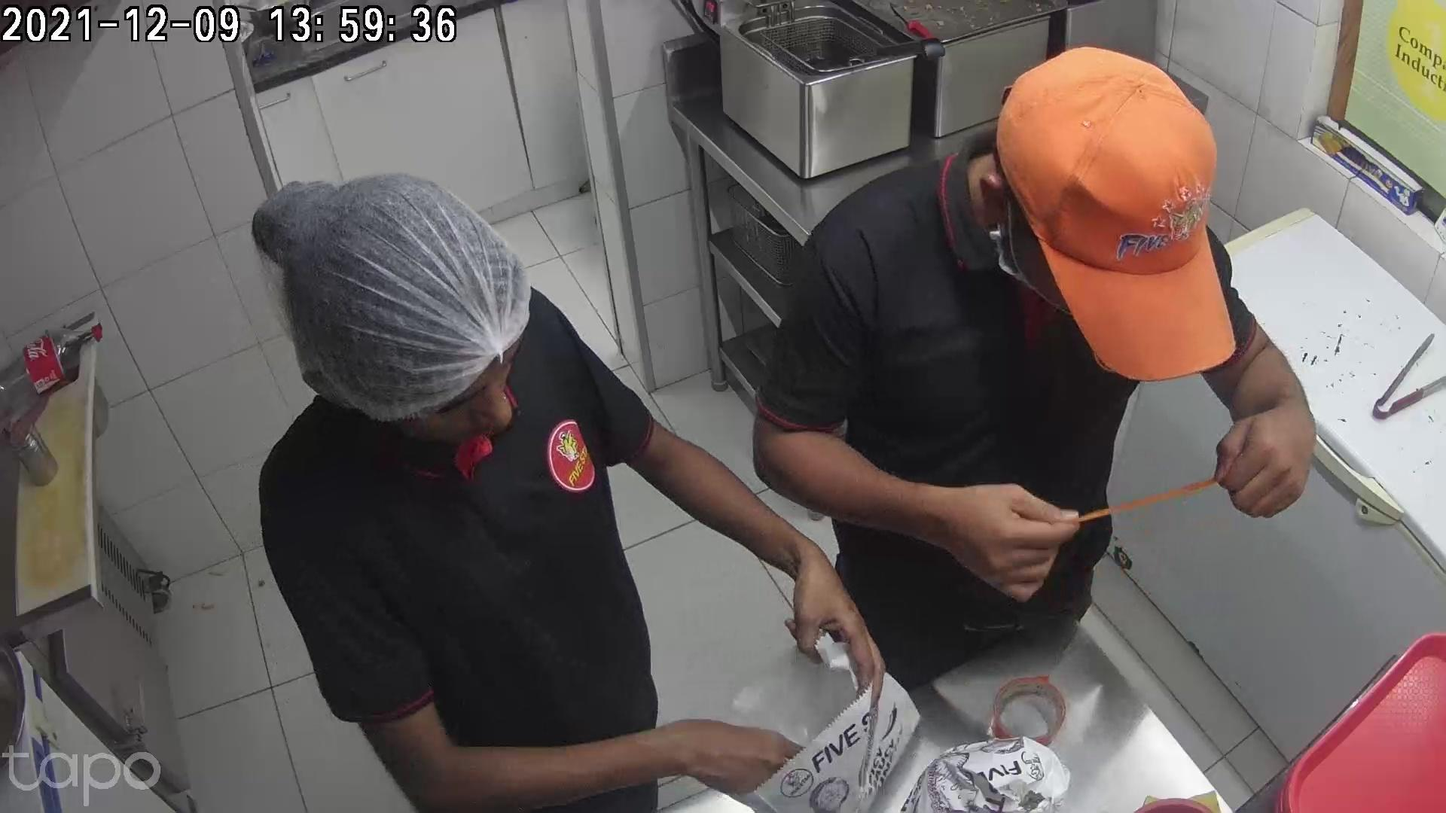no_gloves: (908, 485, 1067, 598)
